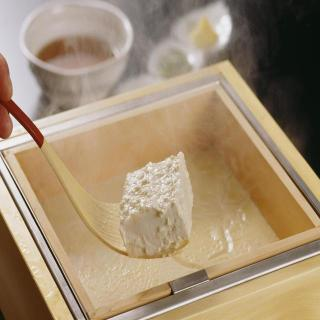Tahu: (94, 147, 223, 257)
